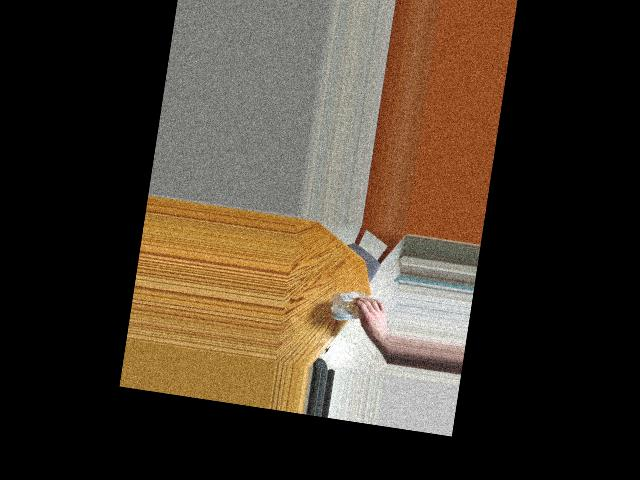cheese: (336, 287, 385, 330)
